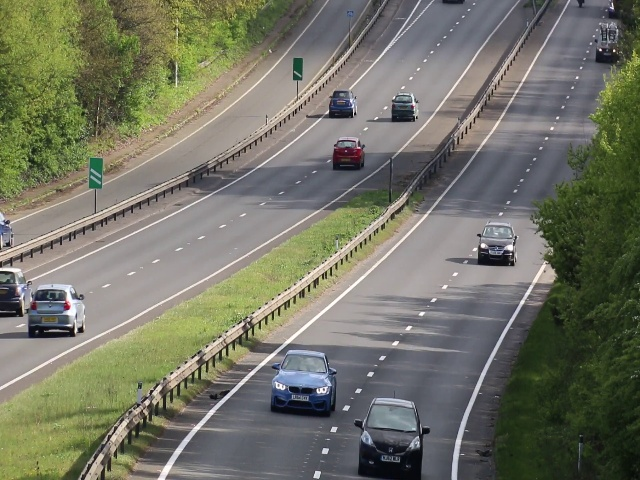car: (357, 396, 428, 475), (268, 346, 337, 414), (28, 282, 92, 337), (477, 222, 518, 266), (1, 267, 29, 312), (332, 137, 364, 169), (327, 90, 358, 118), (391, 90, 417, 122)
